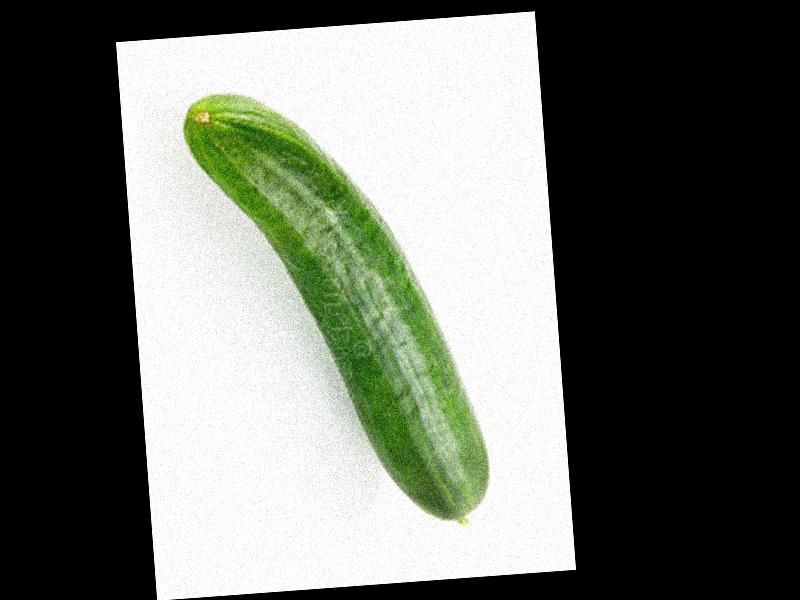Cucumber: (180, 76, 492, 537)
